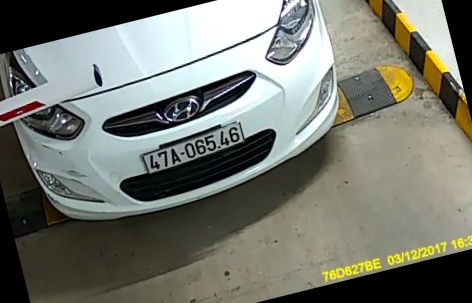plate: (139, 121, 245, 186)
